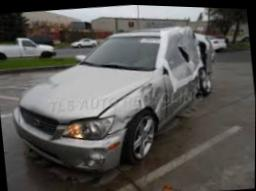Bumper: (56, 130, 129, 171)
Door: (159, 28, 200, 114)
Fender: (101, 70, 175, 136), (196, 30, 220, 71)
